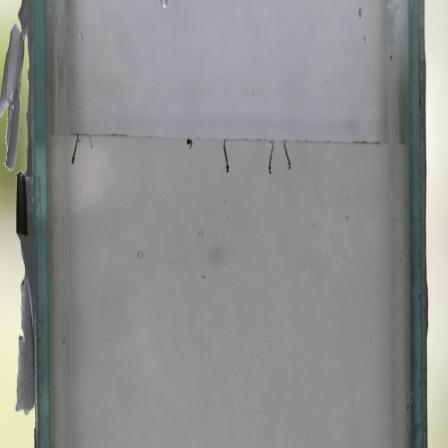Jentik-Nyamuk: (262, 138, 277, 177), (219, 137, 233, 176), (281, 138, 296, 174), (68, 132, 82, 169), (182, 133, 194, 155)
